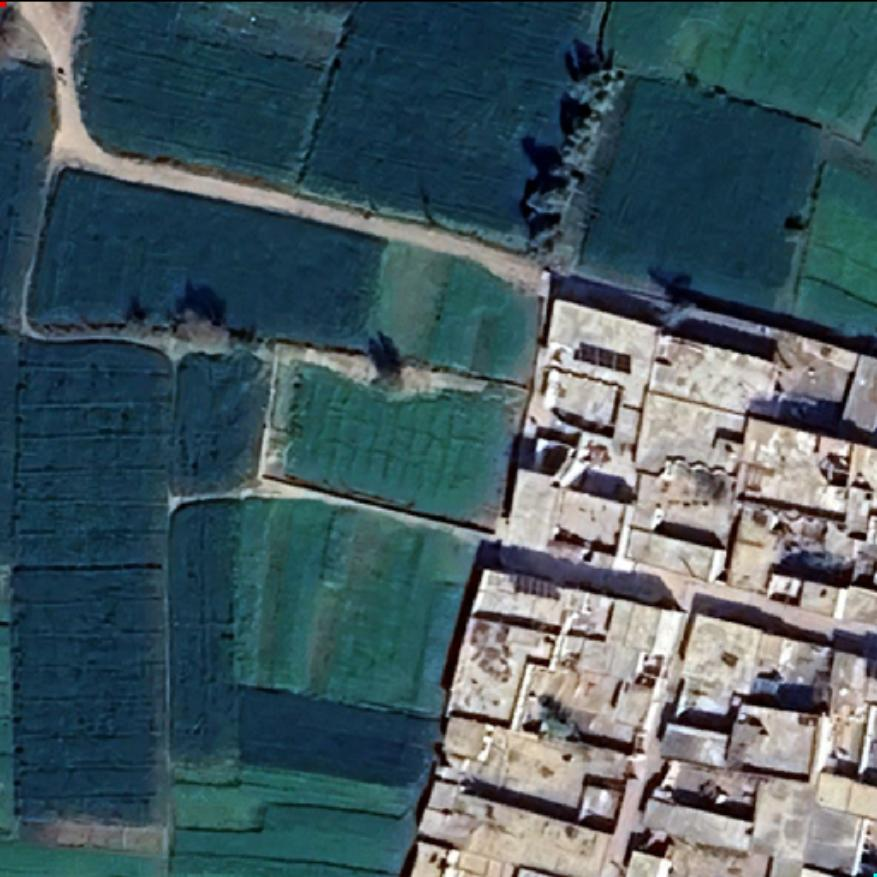Solarpanel: (572, 338, 634, 376), (513, 576, 558, 602)
